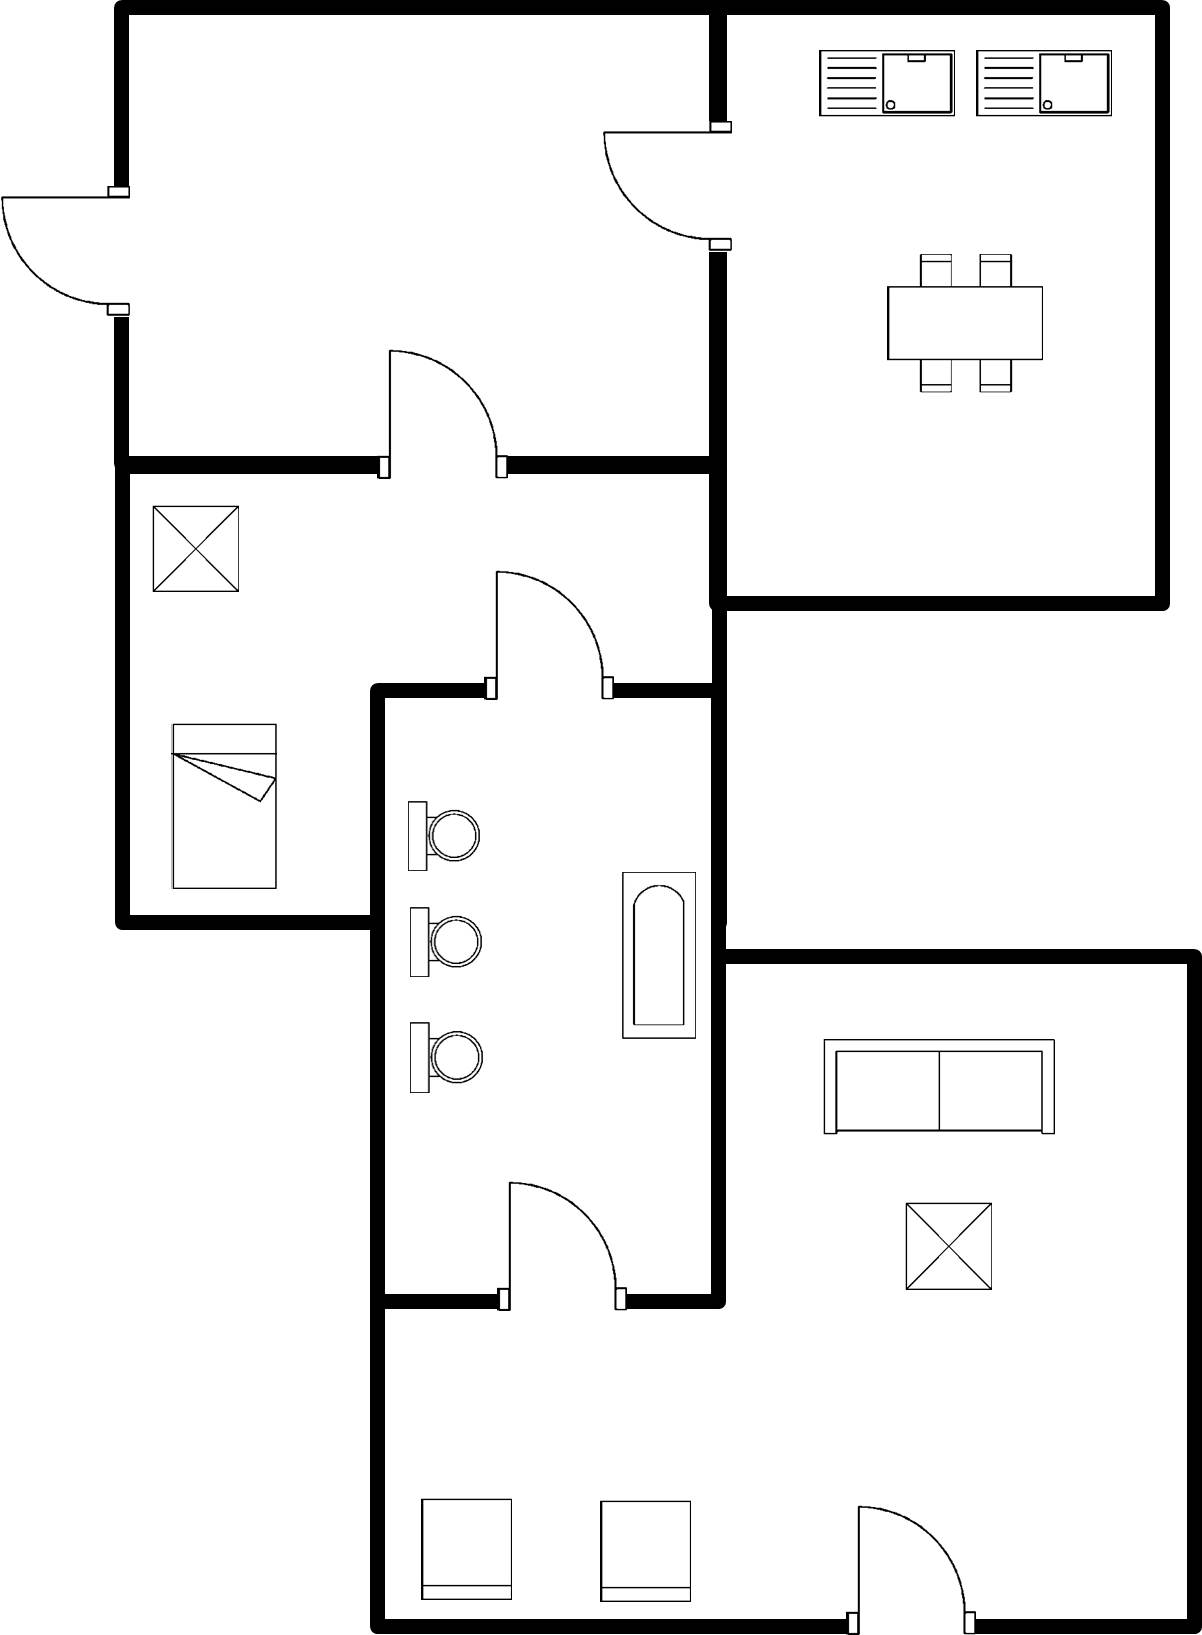bed: (157, 714, 296, 903)
coffee_table: (139, 498, 266, 615), (896, 1192, 1006, 1303)
dining_table: (876, 236, 1055, 403)
large_sink: (398, 1012, 501, 1108), (398, 787, 492, 884), (400, 898, 493, 990)
large_sofa: (811, 1020, 1073, 1146)
sink: (804, 41, 962, 136), (969, 38, 1123, 133)
small_sofa: (589, 1487, 703, 1612), (408, 1488, 523, 1609)
tub: (604, 860, 709, 1050)
